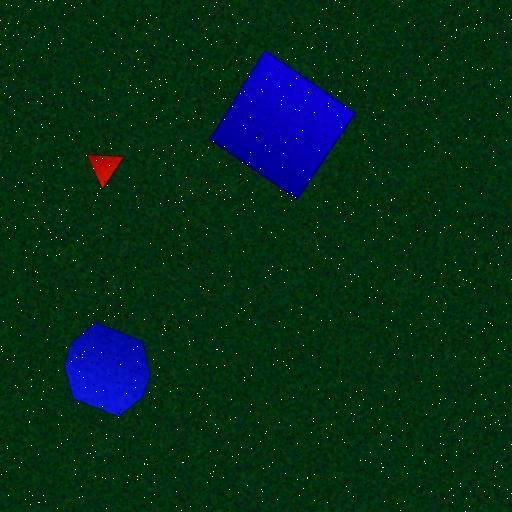BLUE_SQUARE: (209, 49, 357, 200)
